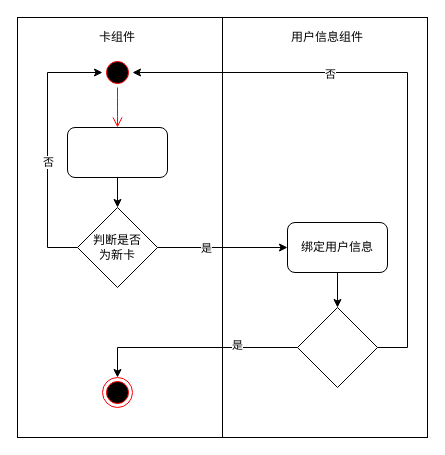
This 445x455 diagram has some shape labels left out. The shapes that lost their labels are listed below. From the top down, each one's centre as x and y in pixels, then its label:
At pixel 117 152: "申请开卡".
At pixel 337 347: "判断是否 添加成功".
